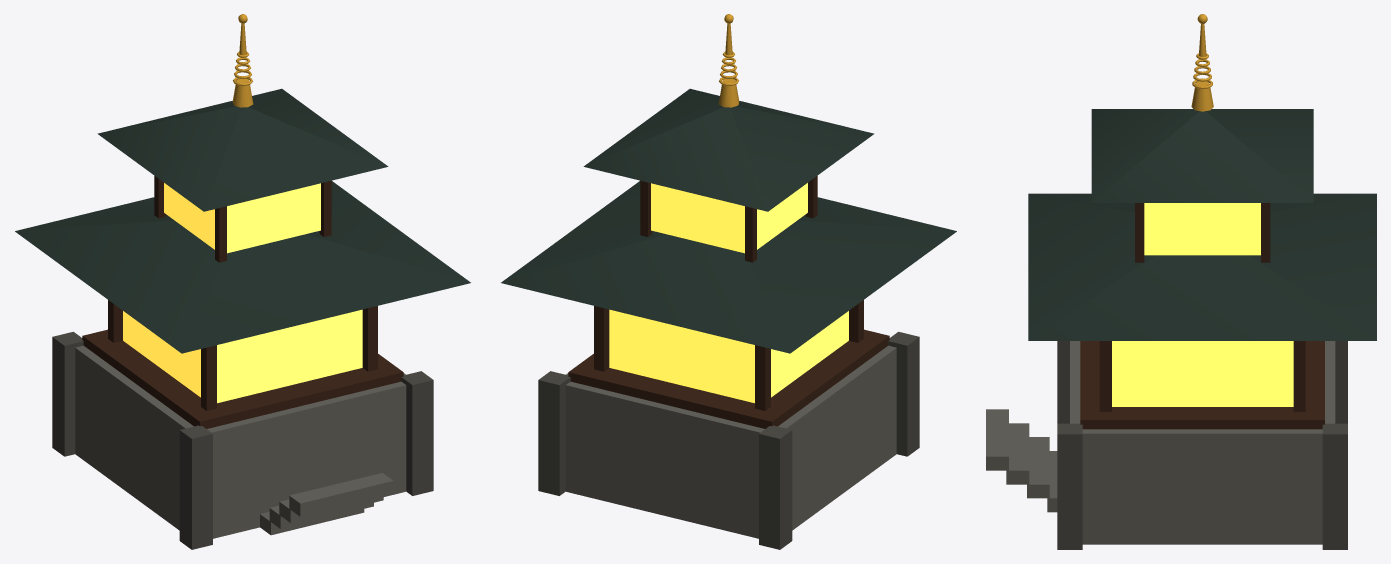
Rendered from japanese_pagoda_shrine.glb.
The picture shows the model from 3 angles, left to right: view 1: azimuth 30°, elevation 25°; view 2: azimuth 150°, elevation 25°; view 3: azimuth 270°, elevation 25°; orthographic projection. The views are drawn at different scales.
Parts seen in each view (by area): view 1: JapanesePagodaShrine_mat5, JapanesePagodaShrine_mat0, JapanesePagodaShrine_mat3, JapanesePagodaShrine_mat2, JapanesePagodaShrine_mat1, JapanesePagodaShrine_mat6; view 2: JapanesePagodaShrine_mat5, JapanesePagodaShrine_mat0, JapanesePagodaShrine_mat3, JapanesePagodaShrine_mat2, JapanesePagodaShrine_mat1, JapanesePagodaShrine_mat6; view 3: JapanesePagodaShrine_mat5, JapanesePagodaShrine_mat0, JapanesePagodaShrine_mat3, JapanesePagodaShrine_mat2, JapanesePagodaShrine_mat1, JapanesePagodaShrine_mat6.
Boxes of the visible parts, x1,y1,x2,y2 form: JapanesePagodaShrine_mat5: (15, 88, 470, 353); JapanesePagodaShrine_mat0: (75, 345, 406, 538); JapanesePagodaShrine_mat3: (123, 183, 362, 403); JapanesePagodaShrine_mat2: (82, 176, 403, 428); JapanesePagodaShrine_mat1: (52, 331, 433, 549); JapanesePagodaShrine_mat6: (232, 14, 253, 107); JapanesePagodaShrine_mat5: (501, 88, 956, 353); JapanesePagodaShrine_mat0: (565, 345, 896, 538); JapanesePagodaShrine_mat3: (609, 183, 848, 403); JapanesePagodaShrine_mat2: (568, 176, 889, 428); JapanesePagodaShrine_mat1: (538, 331, 919, 549); JapanesePagodaShrine_mat6: (718, 14, 739, 107); JapanesePagodaShrine_mat5: (1028, 109, 1376, 340); JapanesePagodaShrine_mat0: (986, 341, 1335, 544); JapanesePagodaShrine_mat3: (1112, 203, 1293, 406); JapanesePagodaShrine_mat2: (1080, 203, 1324, 429); JapanesePagodaShrine_mat1: (1057, 341, 1347, 549); JapanesePagodaShrine_mat6: (1191, 14, 1213, 111).
Size of the model in its own units: 6.83 by 10.25 by 7.66.
